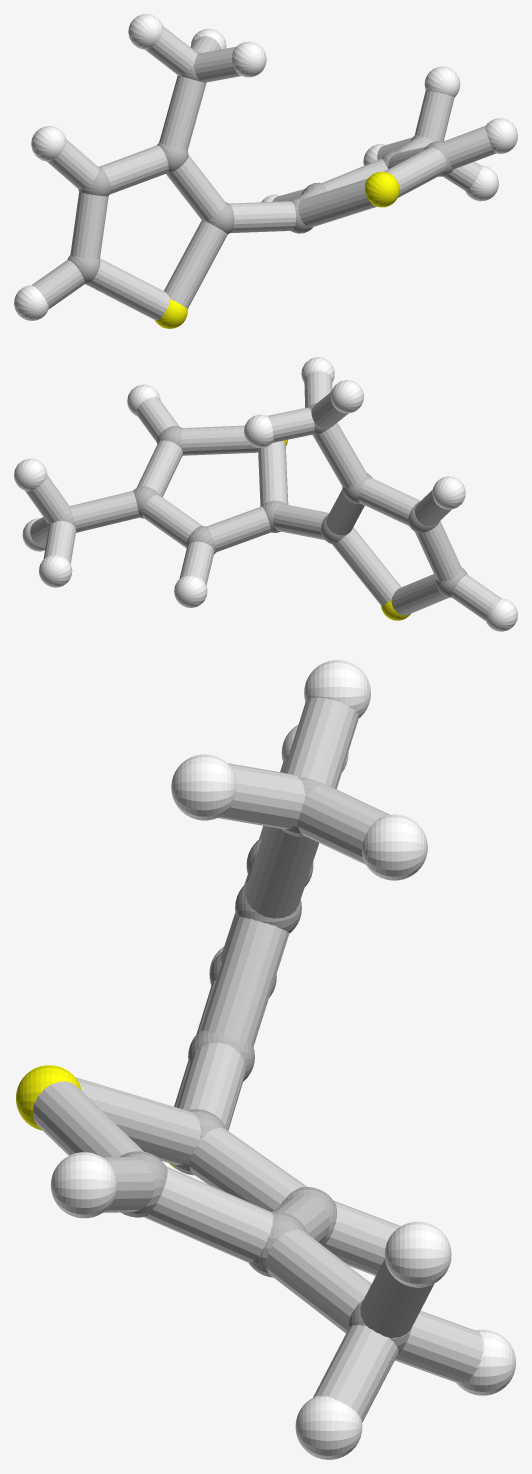
Rendered from Methylthiophene_Phi_20_Theta_80_Methylthiophene.glb.
3 views of the same model, one above another, from view 1: azimuth 30°, elevation 25°; view 2: azimuth 150°, elevation 25°; view 3: azimuth 270°, elevation 25° (orthographic). The views are drawn at different scales.
Parts seen in each view (by area): view 1: grp7965, grp3621, grp1, grp7241; view 2: grp7965, grp3621, grp1; view 3: grp7965, grp3621, grp1, grp7241.
Part boxes in pixels (bbox=[...]): grp7965: bbox=[32, 26, 495, 320]; grp3621: bbox=[14, 14, 517, 320]; grp1: bbox=[67, 51, 453, 284]; grp7241: bbox=[155, 171, 399, 328]; grp7965: bbox=[25, 371, 501, 620]; grp3621: bbox=[14, 357, 517, 631]; grp1: bbox=[47, 403, 467, 597]; grp7965: bbox=[32, 697, 483, 1422]; grp3621: bbox=[50, 660, 515, 1459]; grp1: bbox=[120, 776, 411, 1353]; grp7241: bbox=[16, 1065, 175, 1168].
Size of the model in its own units: 9.72 by 5.16 by 4.48.
